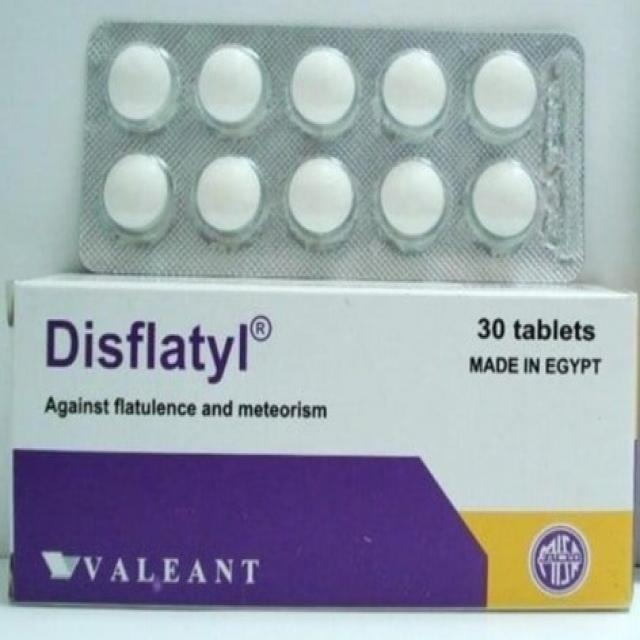drug-name: (40, 314, 258, 388)
